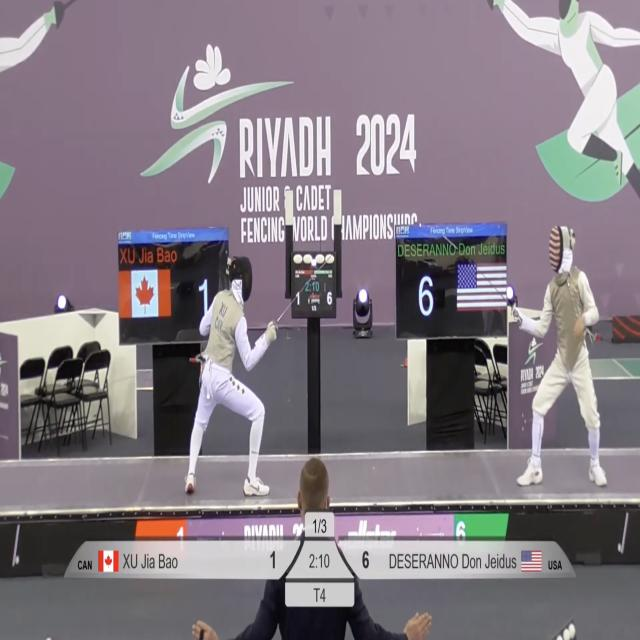fencer: (507, 217, 611, 491), (185, 229, 279, 500)
overlayLeft: (61, 536, 261, 581)
overlayRight: (380, 534, 577, 581)
scoreLeft: (265, 536, 303, 579)
scoreRight: (335, 538, 377, 580)
